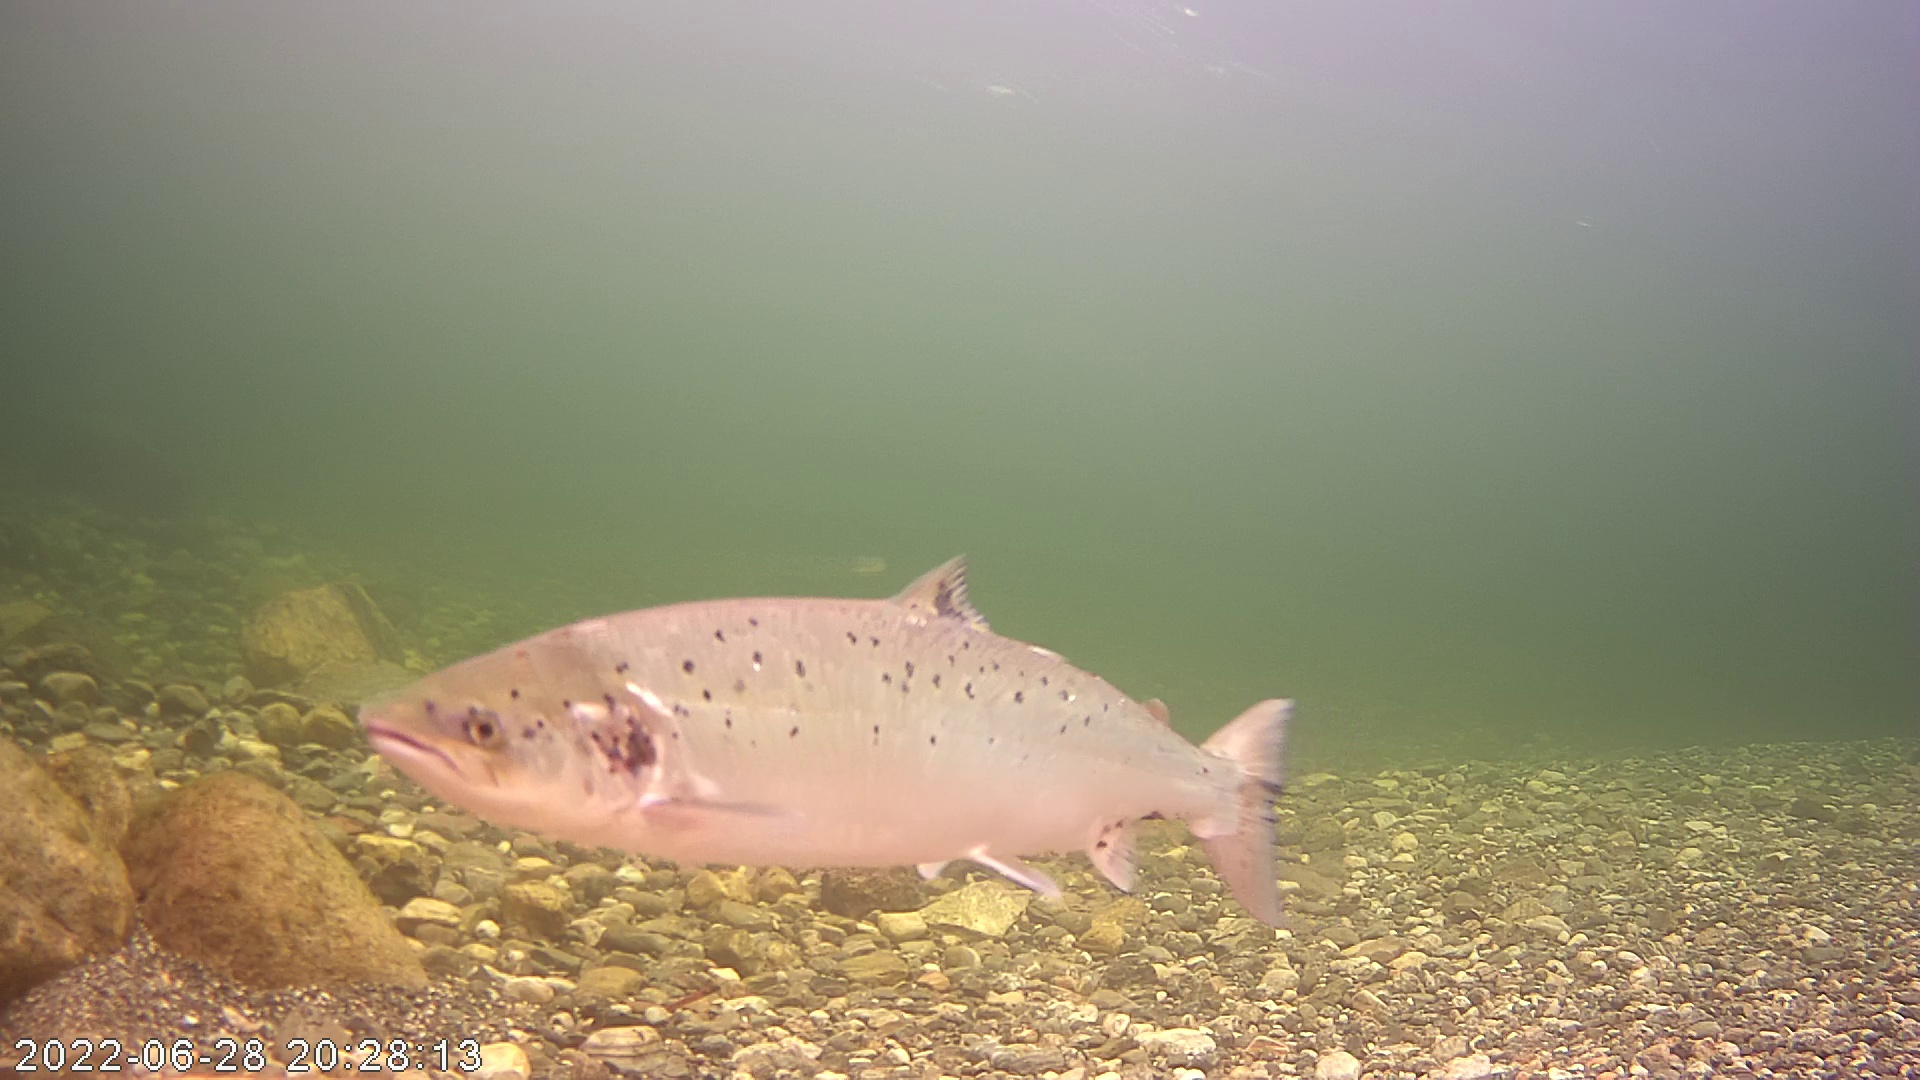salmon: (320, 496, 1313, 931)
